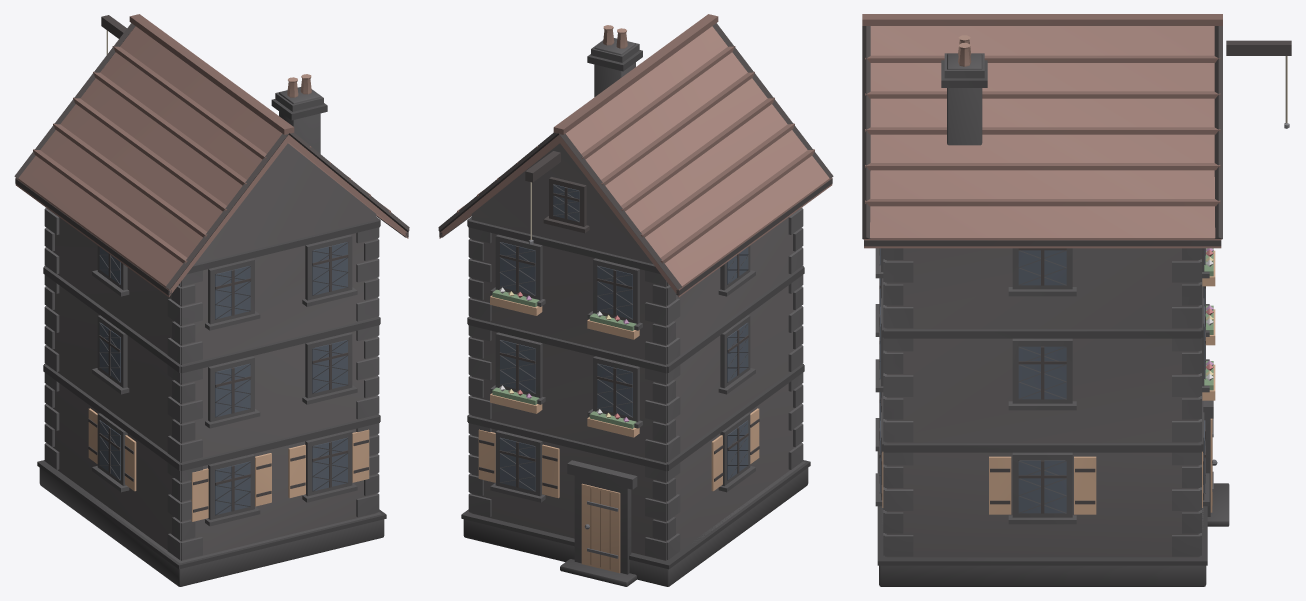
Rendered from townhouse_cinder.gltf.
The picture shows the model from 3 angles, left to right: view 1: azimuth 30°, elevation 25°; view 2: azimuth 150°, elevation 25°; view 3: azimuth 270°, elevation 25°; orthographic projection. The views are drawn at different scales.
Parts seen in each view (by area): view 1: Body; view 2: Body; view 3: Body.
Part boxes in pixels (x1,y1,x2,y2): Body: (14, 14, 409, 586); Body: (438, 14, 833, 586); Body: (862, 14, 1291, 586).
Size of the model in its own units: 6.52 by 11.37 by 8.54.
